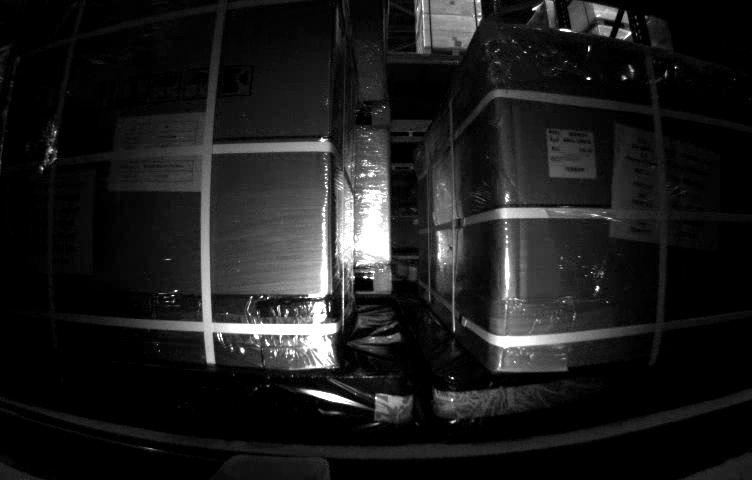True Barcode: (543, 129, 599, 180)
